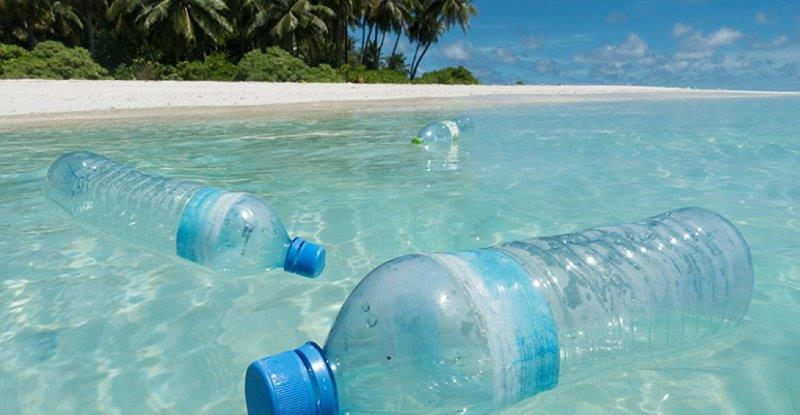plastic: (246, 203, 760, 415), (39, 148, 327, 282), (410, 114, 473, 147)
